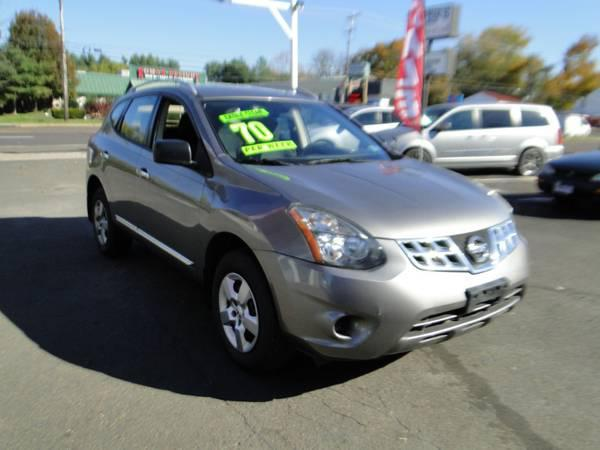Front_Bumper: (251, 233, 529, 354)
Front_Fender: (191, 157, 319, 279)
Front_Right_Door: (130, 149, 205, 266)
Front_Right_Window: (145, 94, 213, 177)
Front_Windshield: (201, 98, 399, 164)
Grille: (396, 211, 519, 273)
Hood: (234, 156, 512, 238)
Rear_Fender: (86, 97, 130, 183)
Rear_Right_Door: (94, 131, 144, 230)
Rear_Right_Window: (112, 95, 159, 149)
Right_Headlight: (289, 205, 391, 271)
Roof: (99, 82, 322, 161)
Wheel: (205, 252, 279, 360), (88, 189, 109, 247)
